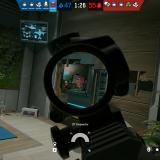Character: (79, 81, 84, 91)
Friend_label: (0, 100, 5, 106)
